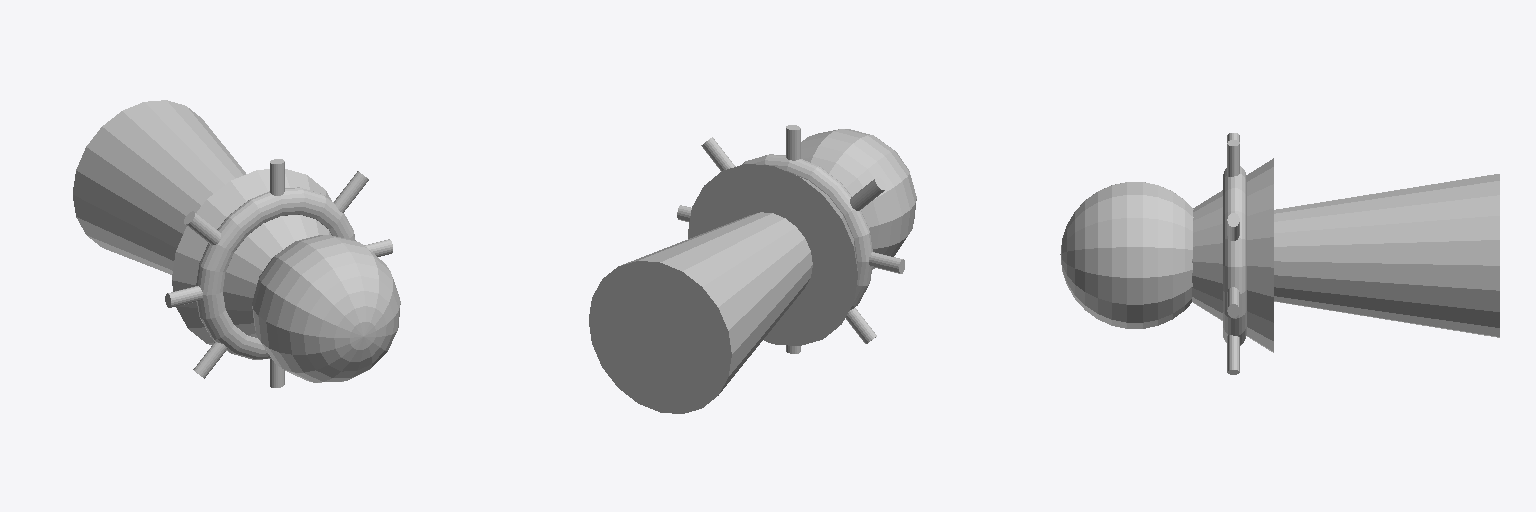
The model's file is Tower-SpeedModel.obj.
The picture shows the model from 3 angles: view 1: azimuth 30°, elevation 25°; view 2: azimuth 150°, elevation 25°; view 3: azimuth 270°, elevation 25°; orthographic projection.
Visible parts, largest first — view 1: Tower_SPEED:initialShadingGroup Tower_SPEED:polySurface13 Tower_, Tower_SPEED:polySurface13 Tower_SPEED:polySurface14, Tower_SPEED:polySurface14; view 2: Tower_SPEED:polySurface13 Tower_SPEED:polySurface14, Tower_SPEED:initialShadingGroup Tower_SPEED:polySurface13 Tower_, Tower_SPEED:polySurface14; view 3: Tower_SPEED:polySurface13 Tower_SPEED:polySurface14, Tower_SPEED:polySurface14, Tower_SPEED:initialShadingGroup Tower_SPEED:polySurface13 Tower_.
Part boxes in pixels (bbox=[...]): Tower_SPEED:initialShadingGroup Tower_SPEED:polySurface13 Tower_: bbox=[165, 159, 392, 387]; Tower_SPEED:polySurface13 Tower_SPEED:polySurface14: bbox=[73, 100, 245, 274]; Tower_SPEED:polySurface14: bbox=[252, 235, 400, 382]; Tower_SPEED:polySurface13 Tower_SPEED:polySurface14: bbox=[589, 212, 812, 413]; Tower_SPEED:initialShadingGroup Tower_SPEED:polySurface13 Tower_: bbox=[677, 125, 904, 353]; Tower_SPEED:polySurface14: bbox=[801, 129, 916, 269]; Tower_SPEED:polySurface13 Tower_SPEED:polySurface14: bbox=[1274, 174, 1499, 337]; Tower_SPEED:polySurface14: bbox=[1060, 182, 1193, 328]; Tower_SPEED:initialShadingGroup Tower_SPEED:polySurface13 Tower_: bbox=[1192, 133, 1273, 374].
Size of the model in its own units: 1.42 by 1.37 by 2.44.